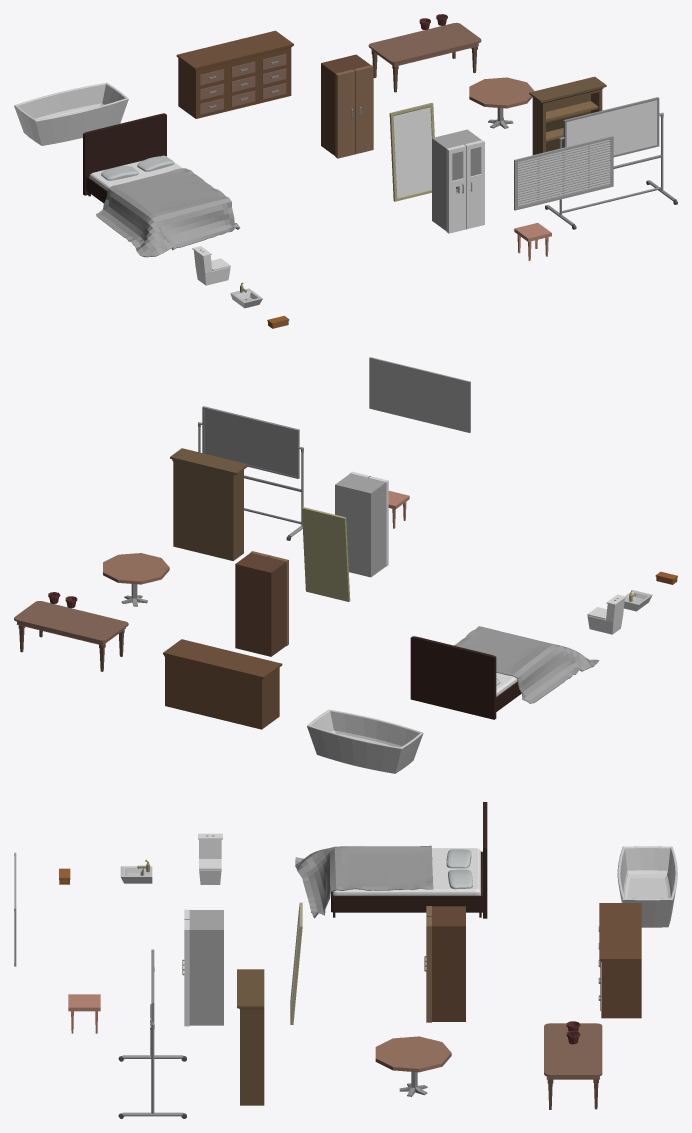
File: Props.fbx
3 renders of one model, top to bottom at view 1: azimuth 30°, elevation 25°; view 2: azimuth 150°, elevation 25°; view 3: azimuth 270°, elevation 25°, orthographic. The views are drawn at different scales.
Parts seen in each view (by area): view 1: Bed, Dressor, Vent, Dressor Stand, Fridge, Whiteboard, Bathtub, Mirror, Bookshelf, Table 1, Round Table, Toilet (+1 smaller); view 2: Bed, Dressor, Bookshelf, Whiteboard, Vent, Dressor Stand, Bathtub, Fridge, Mirror, Table 1, Round Table, Toilet; view 3: Bed, Dressor, Fridge, Dressor Stand, Bathtub, Bookshelf, Table 1, Round Table, Whiteboard, Toilet, Stand, Mirror (+1 smaller).
Boxes of the visible parts, bbox=[...] form: Bed: bbox=[83, 113, 240, 257]; Dressor: bbox=[176, 30, 293, 118]; Vent: bbox=[514, 136, 613, 210]; Dressor Stand: bbox=[321, 54, 373, 158]; Fridge: bbox=[432, 129, 484, 233]; Whiteboard: bbox=[545, 97, 677, 229]; Bathtub: bbox=[14, 82, 128, 145]; Mirror: bbox=[389, 103, 434, 201]; Bookshelf: bbox=[529, 76, 606, 154]; Table 1: bbox=[368, 22, 481, 92]; Round Table: bbox=[469, 77, 534, 128]; Toilet: bbox=[192, 246, 230, 285]; Bed: bbox=[410, 626, 599, 719]; Dressor: bbox=[163, 639, 282, 729]; Bookshelf: bbox=[170, 448, 248, 560]; Whiteboard: bbox=[198, 406, 303, 540]; Vent: bbox=[369, 357, 470, 432]; Dressor Stand: bbox=[235, 551, 288, 656]; Bathtub: bbox=[307, 709, 423, 773]; Fridge: bbox=[335, 471, 388, 577]; Mirror: bbox=[302, 507, 350, 601]; Table 1: bbox=[14, 601, 128, 671]; Round Table: bbox=[103, 553, 169, 606]; Toilet: bbox=[587, 594, 626, 634]; Bed: bbox=[295, 802, 487, 918]; Dressor: bbox=[598, 903, 641, 1018]; Fridge: bbox=[182, 909, 223, 1026]; Dressor Stand: bbox=[424, 906, 465, 1022]; Bathtub: bbox=[617, 846, 677, 927]; Bookshelf: bbox=[237, 969, 264, 1105]; Table 1: bbox=[544, 1023, 602, 1109]; Round Table: bbox=[375, 1036, 451, 1096]; Whiteboard: bbox=[118, 949, 186, 1118]; Toilet: bbox=[198, 833, 222, 884]; Stand: bbox=[68, 994, 100, 1033]; Mirror: bbox=[290, 902, 302, 1024].
Bounding box in the file's own units: 2096 × 564 × 2277.
